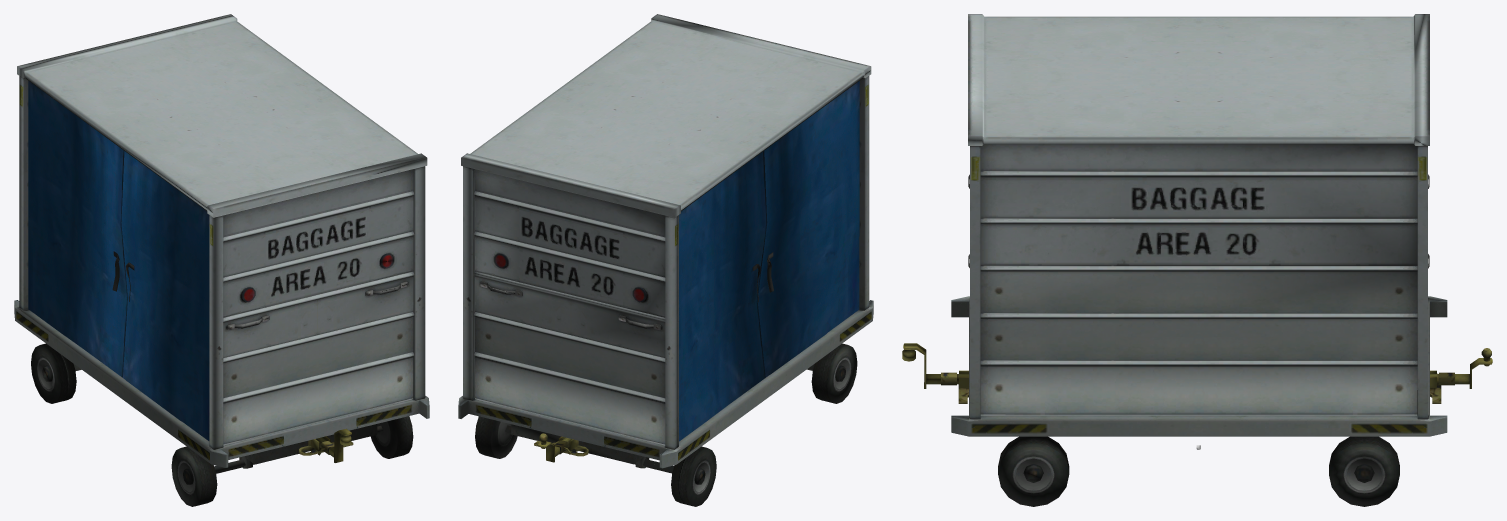
The model's file is airport_baggage_cart.obj.
The picture shows the model from 3 angles, left to right: view 1: azimuth 30°, elevation 25°; view 2: azimuth 150°, elevation 25°; view 3: azimuth 270°, elevation 25°; orthographic projection. The views are drawn at different scales.
Visible parts, largest first — view 1: (null); view 2: (null); view 3: (null).
Boxes of the visible parts, x1,y1,x2,y2 form: (null): (14, 14, 429, 506); (null): (458, 14, 873, 506); (null): (902, 14, 1492, 506).
Size of the model in its own units: 67.98 by 94.24 by 136.
1 material, 1 textured.
